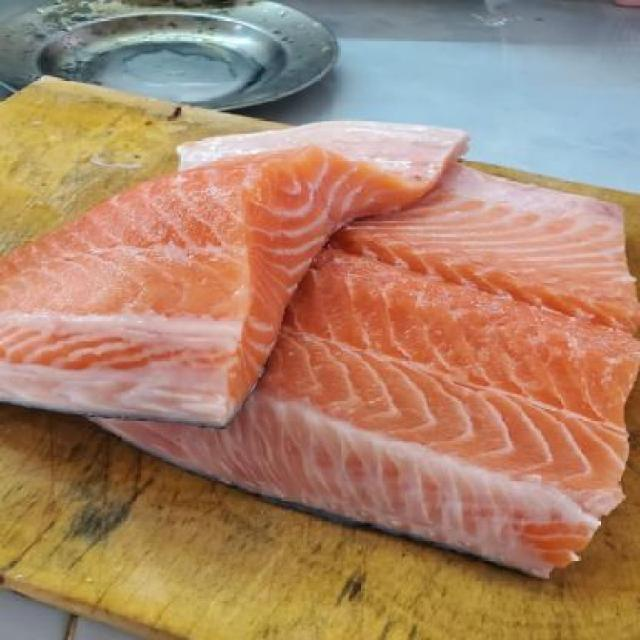salmon: (71, 142, 640, 569), (2, 112, 480, 436)
